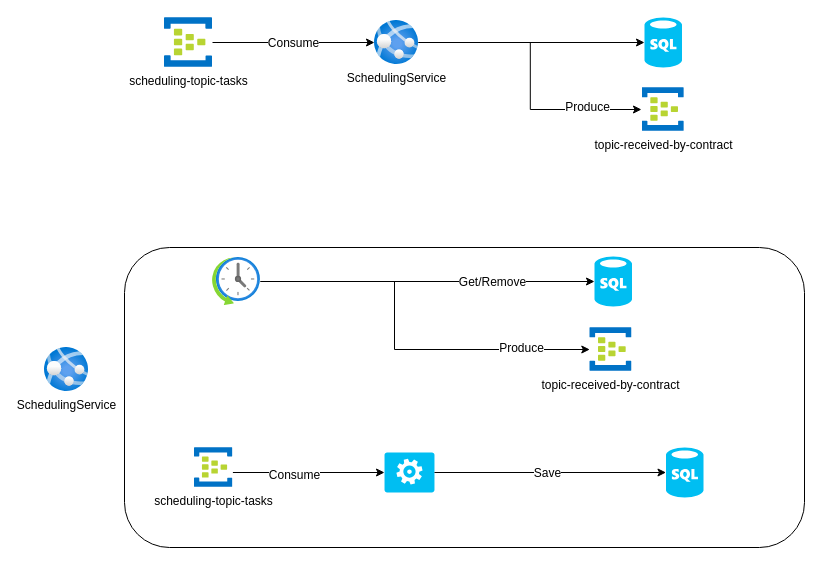
Image size: 822x565. Some labels were removed from this diagram. Here are the shapes that lost their labels. From the top down, the centre of each, then its label:
the point at 236,281: Quartz
the point at 409,472: Consumer
